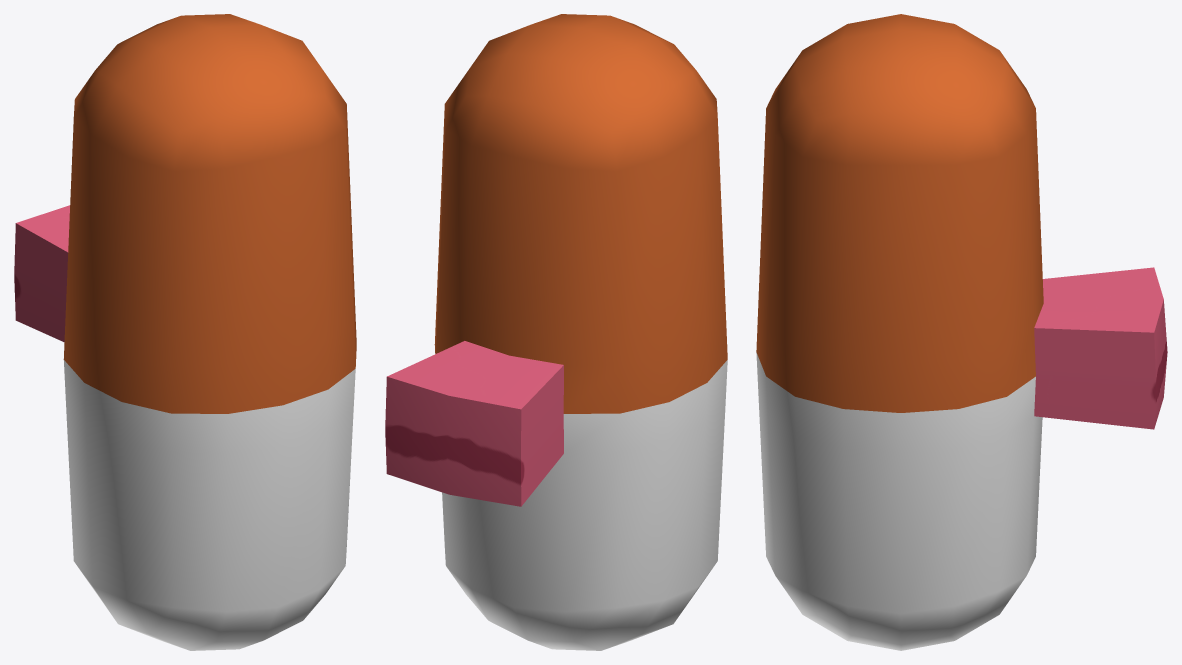
File: Enemy4.fbx
3 renders of one model, left to right at view 1: azimuth 30°, elevation 25°; view 2: azimuth 150°, elevation 25°; view 3: azimuth 270°, elevation 25°, orthographic.
Visible parts, largest first — view 1: pCube1; view 2: pCube1; view 3: pCube1.
Part boxes in pixels (x1,y1,x2,y2): pCube1: (14, 14, 356, 650); pCube1: (385, 14, 727, 650); pCube1: (756, 14, 1167, 650).
Size of the model in its own units: 176 by 406 by 250.
1 material, 1 textured.
